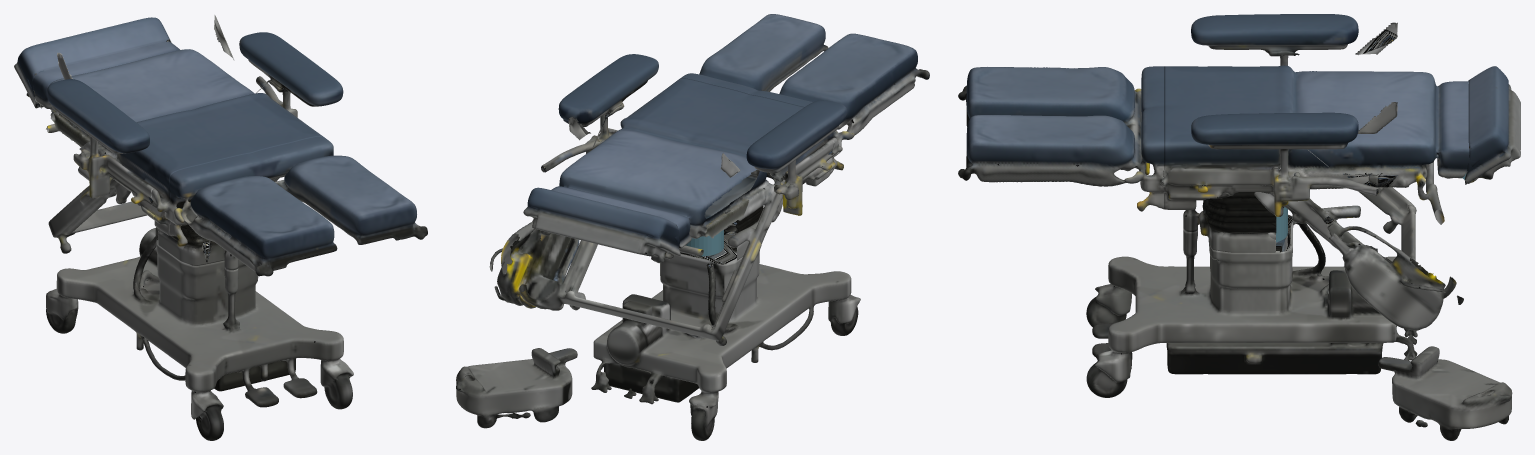
Rendered from bed.glb.
3 renders of one model, left to right at view 1: azimuth 30°, elevation 25°; view 2: azimuth 150°, elevation 25°; view 3: azimuth 270°, elevation 25°, orthographic. The views are drawn at different scales.
Parts seen in each view (by area): view 1: Base, SeatAssembly, LegPlate, RightArm, LeftArm, HeadPlate; view 2: SeatAssembly, Base, LegPlate, HeadPlate, RightArm, LeftArm, Lift_Extension; view 3: SeatAssembly, Base, LegPlate, LeftArm, RightArm, HeadPlate.
Part boxes in pixels (box(x1,y1,x2,y2)): Base: box(46, 227, 353, 440); SeatAssembly: box(27, 41, 323, 270); LegPlate: box(158, 136, 427, 276); RightArm: box(47, 52, 154, 220); LeftArm: box(214, 15, 343, 117); HeadPlate: box(14, 17, 171, 108); SeatAssembly: box(489, 78, 842, 345); Base: box(456, 234, 860, 440); LegPlate: box(680, 14, 929, 173); HeadPlate: box(523, 187, 680, 263); RightArm: box(720, 100, 847, 215); LeftArm: box(541, 54, 658, 172); Lift_Extension: box(685, 230, 723, 256); SeatAssembly: box(1163, 51, 1479, 330); Base: box(1086, 214, 1512, 440); LegPlate: box(958, 66, 1164, 211); LeftArm: box(1191, 102, 1397, 216); RightArm: box(1191, 14, 1397, 65); HeadPlate: box(1464, 66, 1520, 184).
Size of the model in its own units: 2.1 by 2.13 by 3.58.
Materials: 2 (1 with a texture image).
